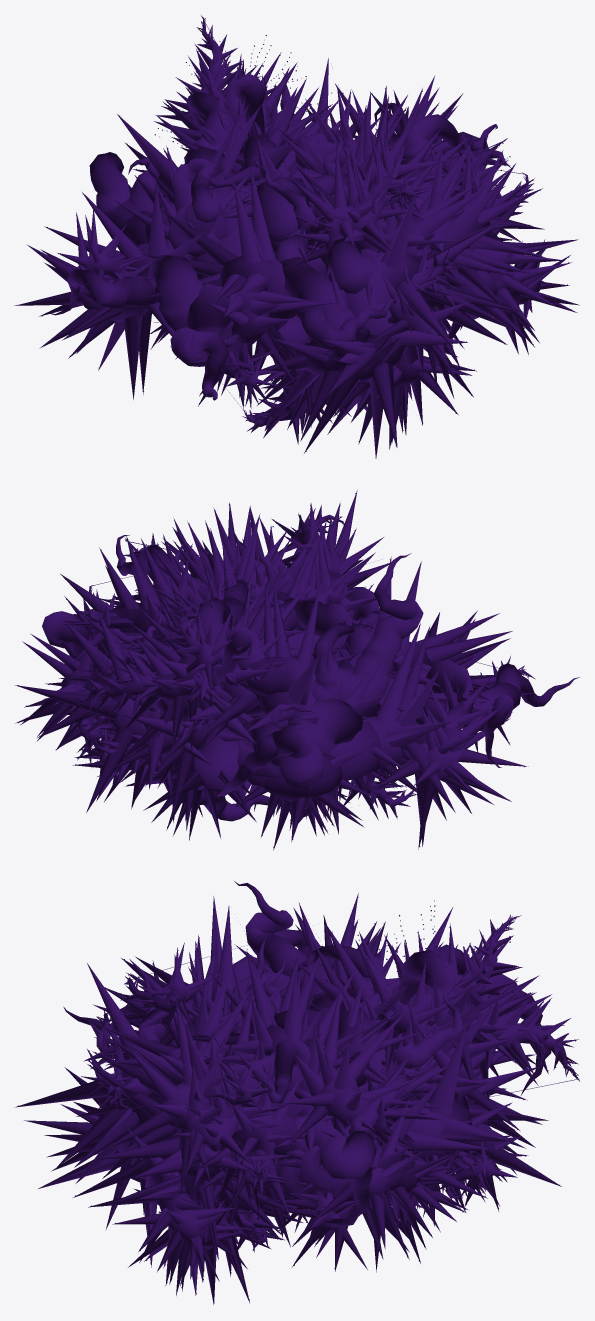
The model's file is PlantaPinchess.fbx.
The picture shows the model from 3 angles, top to bottom: view 1: azimuth 30°, elevation 25°; view 2: azimuth 150°, elevation 25°; view 3: azimuth 270°, elevation 25°; orthographic projection. The views are drawn at different scales.
Visible parts, largest first — view 1: Plant_obj_cleaner_materialmerger_gles; view 2: Plant_obj_cleaner_materialmerger_gles; view 3: Plant_obj_cleaner_materialmerger_gles.
Part boxes in pixels (box(x1,y1,x2,y2)): Plant_obj_cleaner_materialmerger_gles: box(14, 15, 579, 458); Plant_obj_cleaner_materialmerger_gles: box(15, 490, 579, 850); Plant_obj_cleaner_materialmerger_gles: box(14, 881, 579, 1304).
Size of the model in its own units: 20552 by 13963 by 19427.
